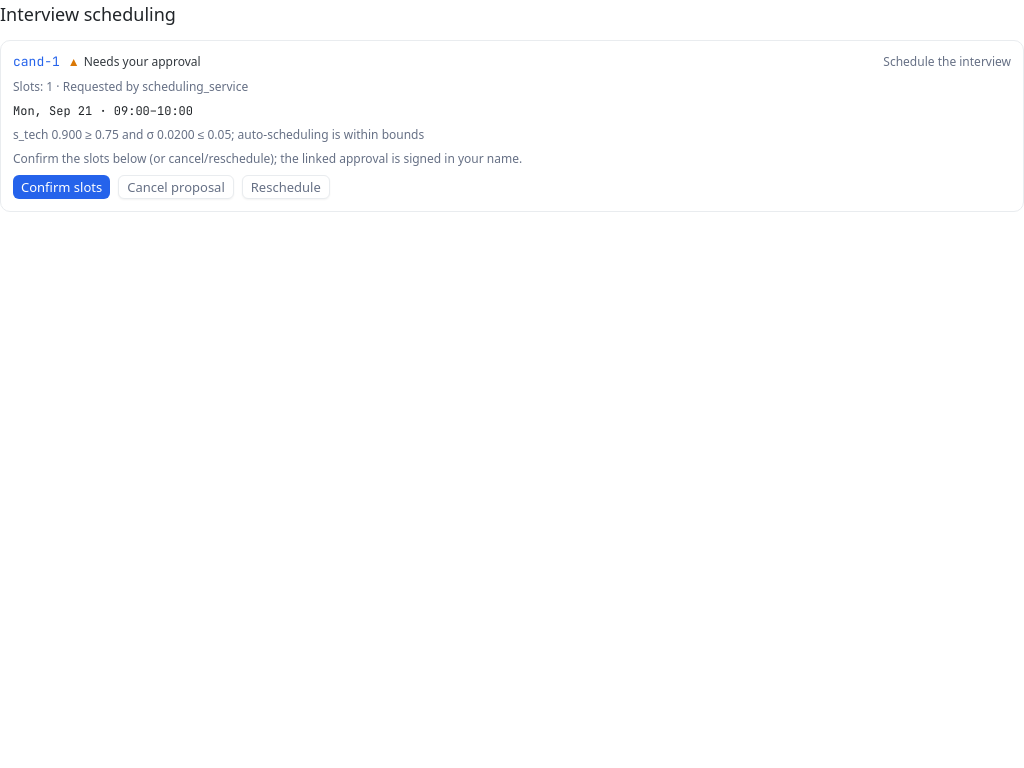
SchedulingView › opens the decision dialog from an action
Click the button "Confirm slots".
click(62, 187)  # box [13, 175, 110, 199]
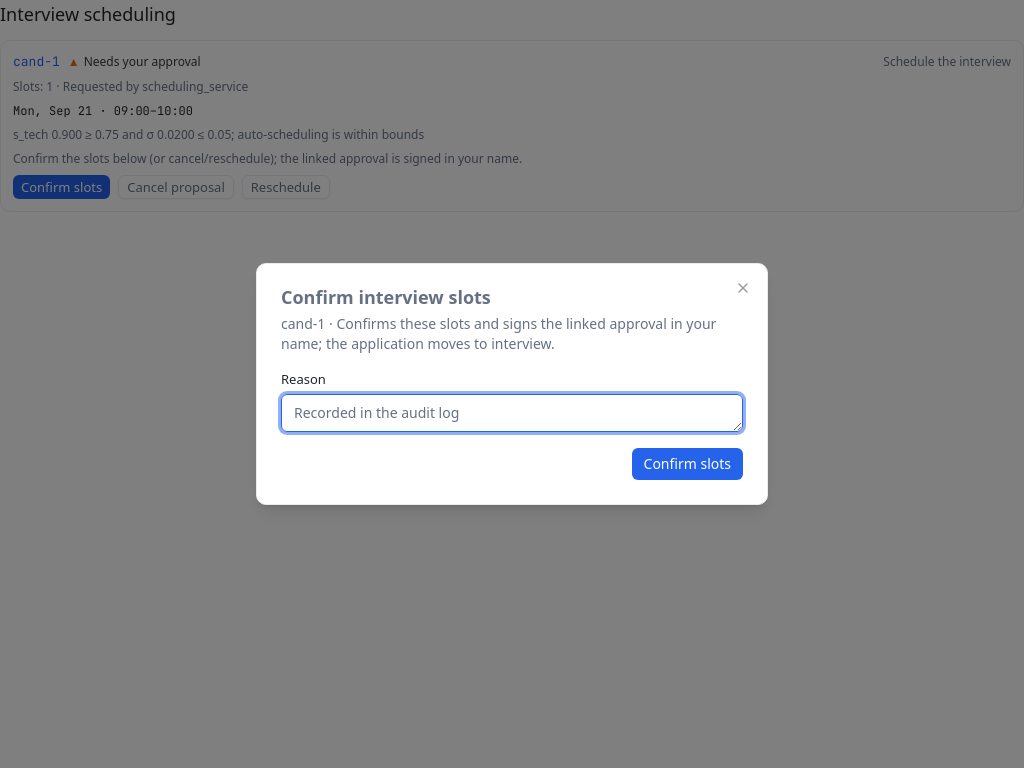
Expected: the heading "Confirm interview slots" is shown, [281, 285, 491, 309]
Expected: the text box labelled "Reason" is shown, [281, 394, 743, 432]
